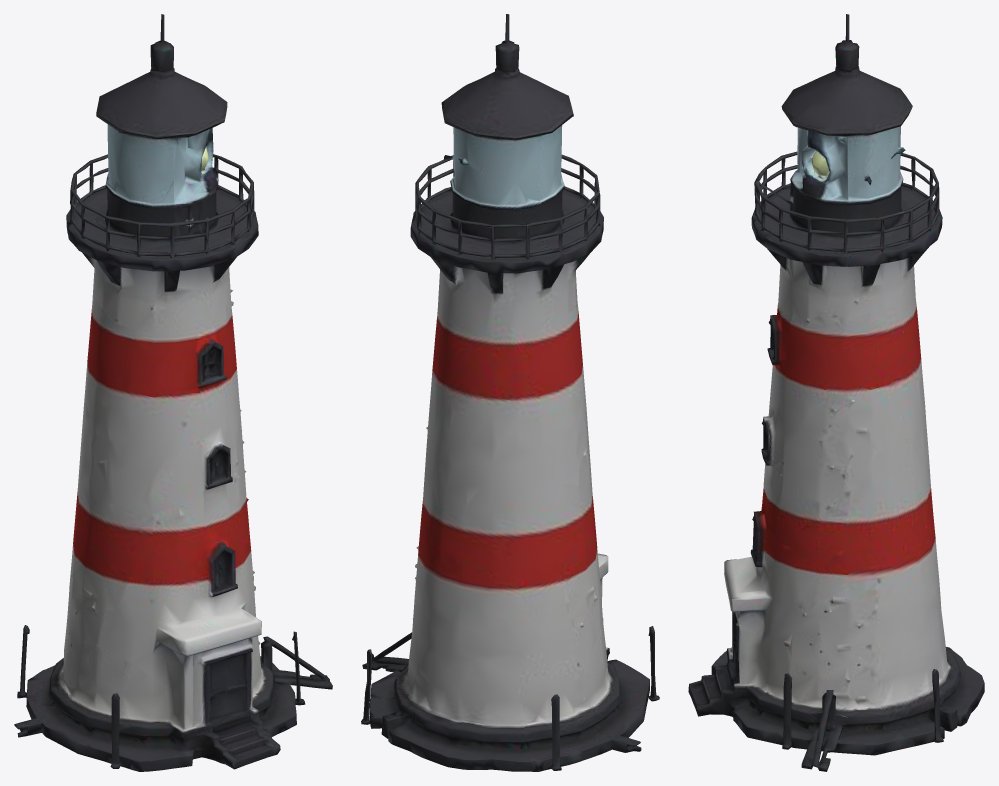
Rendered from faro-hielo.glb.
3 views of the same model, side by side, from view 1: azimuth 30°, elevation 25°; view 2: azimuth 150°, elevation 25°; view 3: azimuth 270°, elevation 25° (orthographic). The views are drawn at different scales.
Parts seen in each view (by area): view 1: tripo_node_af0d6cae-d130-4930-bc76-77dd52ceecb2; view 2: tripo_node_af0d6cae-d130-4930-bc76-77dd52ceecb2; view 3: tripo_node_af0d6cae-d130-4930-bc76-77dd52ceecb2.
Part boxes in pixels (x1=…): tripo_node_af0d6cae-d130-4930-bc76-77dd52ceecb2: x1=14, y1=14, x2=332, y2=771; tripo_node_af0d6cae-d130-4930-bc76-77dd52ceecb2: x1=361, y1=14, x2=659, y2=771; tripo_node_af0d6cae-d130-4930-bc76-77dd52ceecb2: x1=688, y1=14, x2=984, y2=771.
Bounding box in the file's own units: 0.441 × 1 × 0.3925.
1 material, 1 textured.
